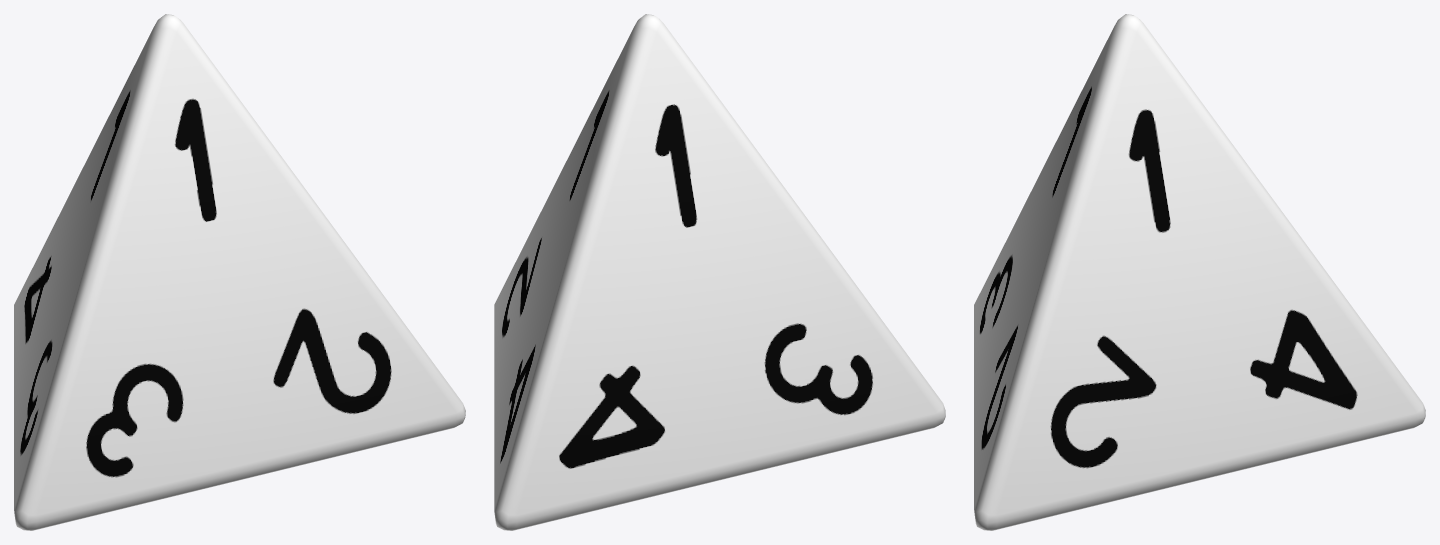
File: DnDDiceComissionD4_2.gltf
3 renders of one model, left to right at view 1: azimuth 30°, elevation 25°; view 2: azimuth 150°, elevation 25°; view 3: azimuth 270°, elevation 25°, orthographic.
Parts seen in each view (by area): view 1: D4_Low; view 2: D4_Low; view 3: D4_Low.
Part boxes in pixels (x1=…): D4_Low: x1=14, y1=14, x2=465, y2=530; D4_Low: x1=494, y1=14, x2=945, y2=530; D4_Low: x1=974, y1=14, x2=1425, y2=530.
Size of the model in its own units: 1.59 by 1.4 by 1.39.
1 material, 1 textured.
